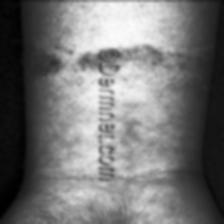Toxin: (28, 52, 60, 76), (132, 46, 162, 64)
